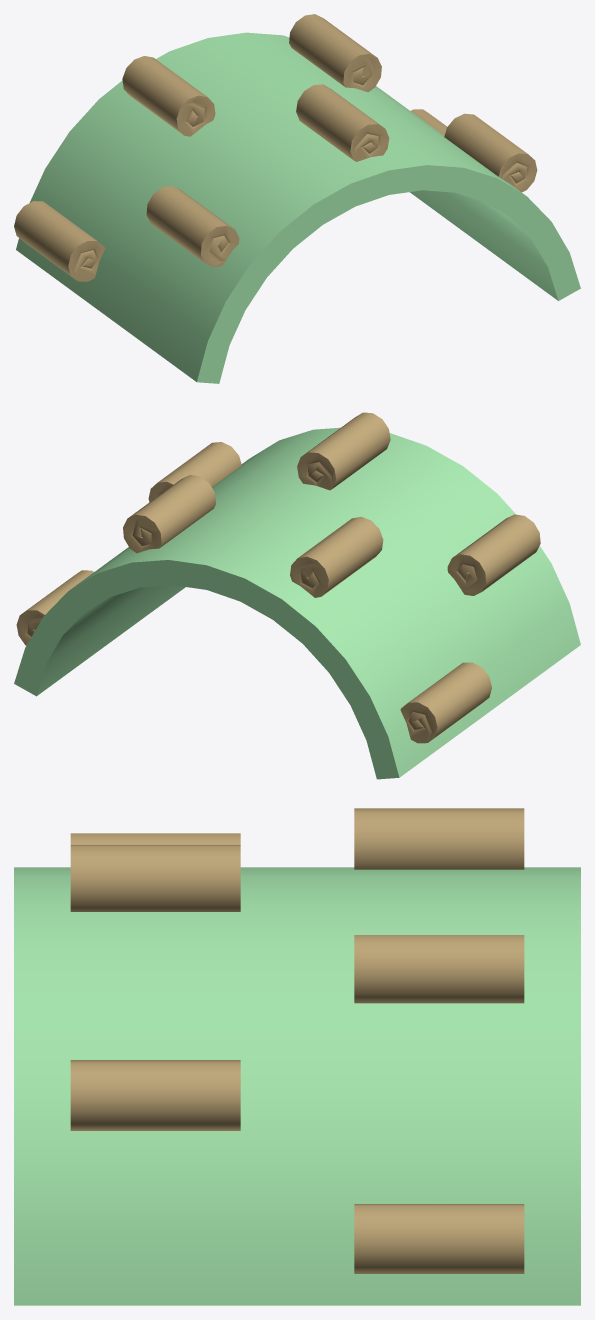
The model's file is Bridge.fbx.
3 views of the same model, one above another, from view 1: azimuth 30°, elevation 25°; view 2: azimuth 150°, elevation 25°; view 3: azimuth 270°, elevation 25° (orthographic). The views are drawn at different scales.
Visible parts, largest first — view 1: Cylinder.008; view 2: Cylinder.008; view 3: Cylinder.008.
Part boxes in pixels (x1,y1,x2,y2): Cylinder.008: [14, 14, 580, 383]; Cylinder.008: [14, 412, 580, 779]; Cylinder.008: [14, 808, 580, 1305].
Size of the model in its own units: 1071 by 501 by 800.
